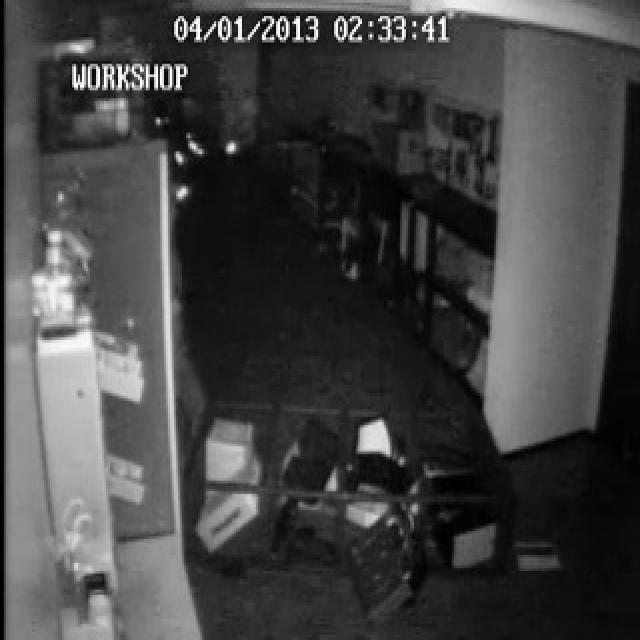burglary: (179, 388, 532, 592)
